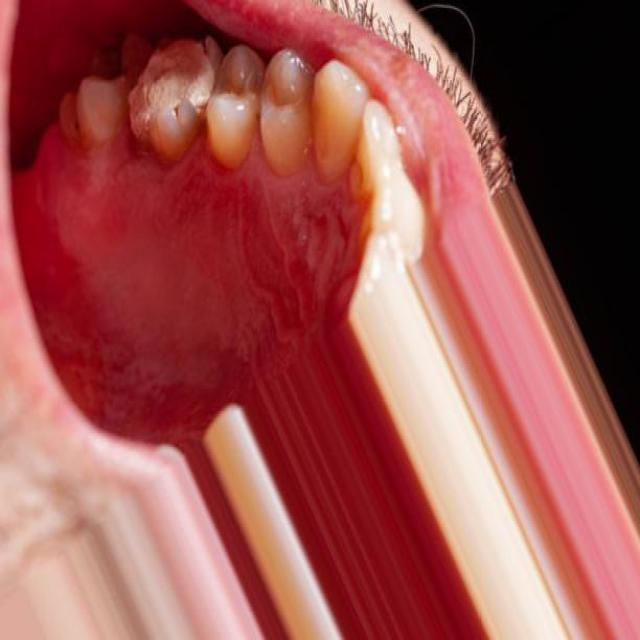caries: (122, 27, 211, 140)
